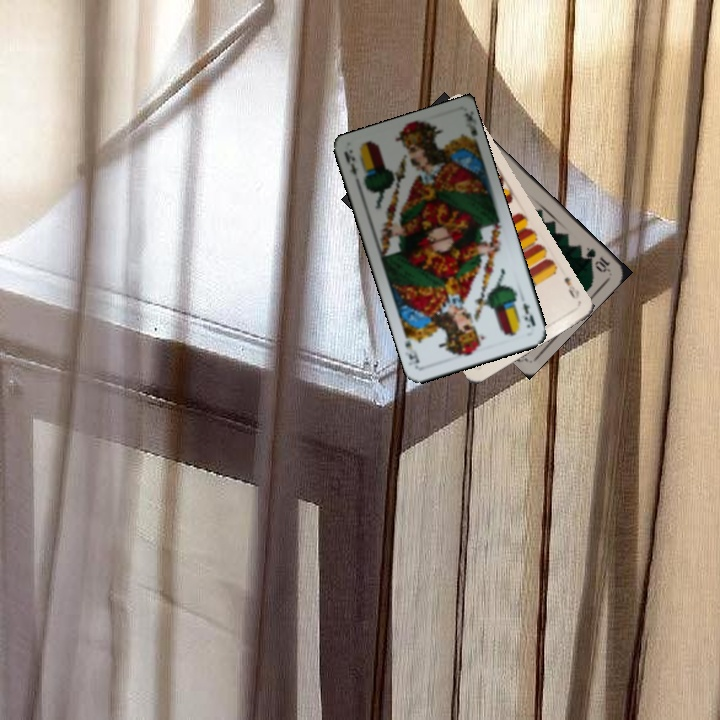E9: (560, 273, 582, 302)
EK: (340, 149, 361, 177), (519, 299, 538, 329)
G10: (582, 243, 613, 275)
